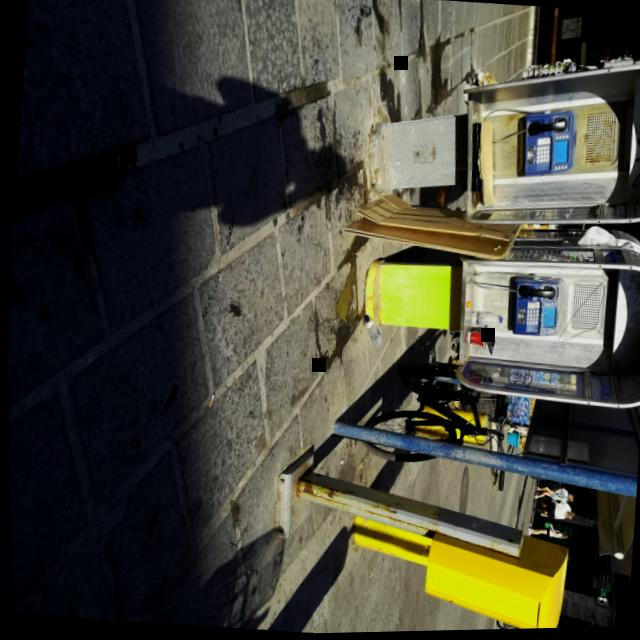Cigarette: (206, 395, 212, 408)
Clear plastic bottle: (361, 318, 379, 349), (468, 314, 499, 328)
Corrugated carton: (354, 195, 512, 243), (475, 123, 493, 209)
Disposable plastic cup: (465, 332, 483, 349)
Other plastic: (482, 330, 492, 358)
Plastic bottle cap: (465, 302, 468, 309), (362, 318, 366, 323), (497, 319, 500, 325)
Plastic film: (575, 229, 614, 249)
